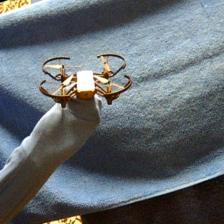drone: (39, 51, 133, 109)
